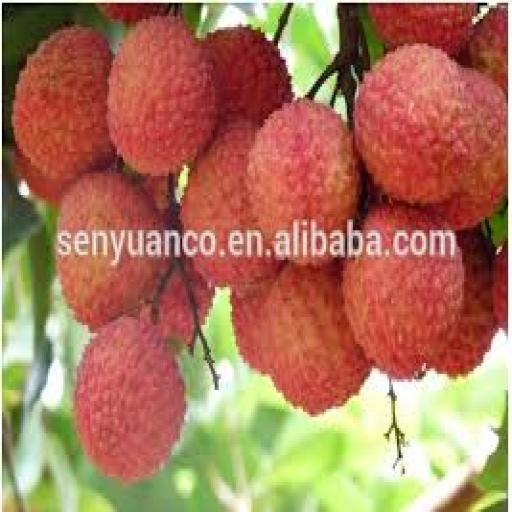lychee: (344, 206, 464, 379), (355, 47, 477, 203), (75, 317, 186, 482), (108, 17, 216, 176), (58, 171, 164, 330), (259, 263, 370, 414), (181, 120, 278, 287), (248, 101, 358, 243), (14, 28, 115, 181), (432, 68, 508, 230), (430, 231, 494, 376), (204, 28, 291, 124), (369, 3, 475, 54), (231, 280, 274, 373), (465, 6, 508, 92), (14, 147, 70, 205), (158, 263, 197, 346), (98, 3, 164, 24), (493, 247, 508, 330), (142, 177, 170, 211)
